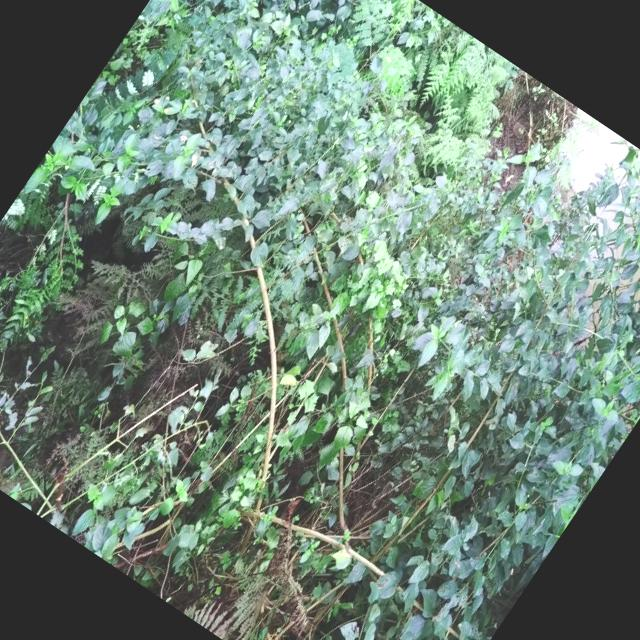Mysore-Thorn-Weed: (63, 0, 203, 157)
